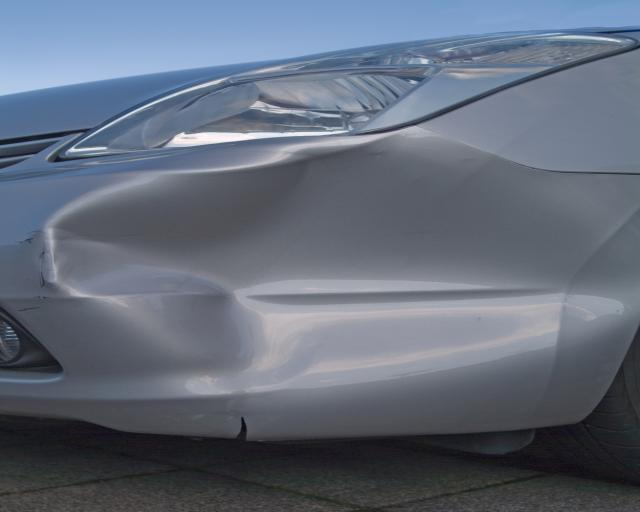crack: (233, 416, 249, 440)
dent: (47, 140, 640, 396)
